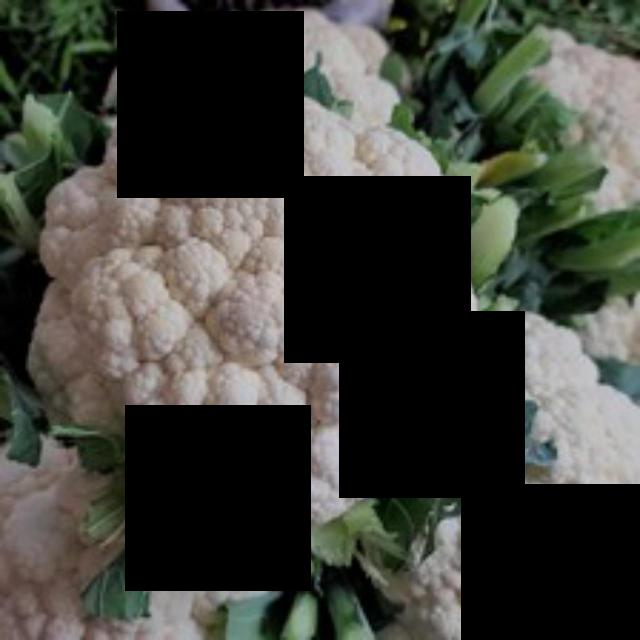cauliflower: (27, 68, 486, 536)
